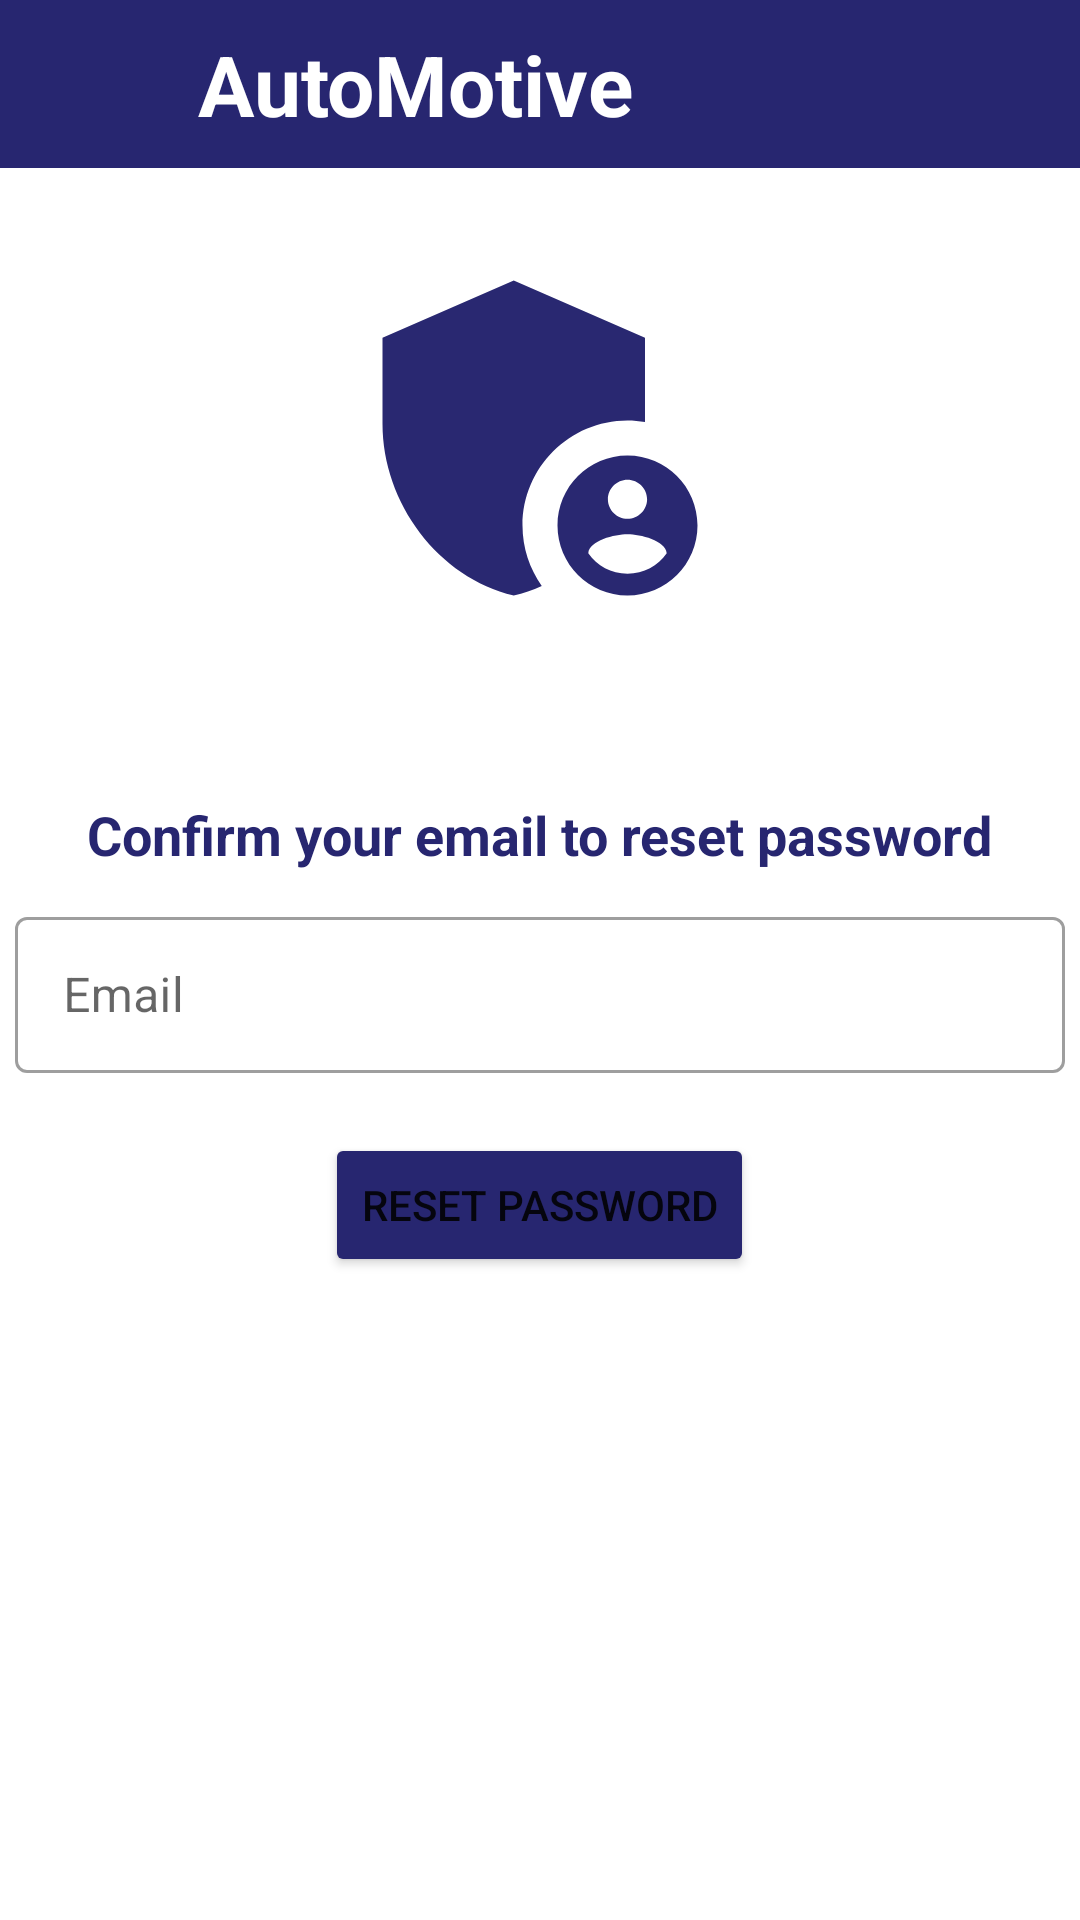

Screen size 1080px×1920px. Icon name, then its box in pixels as (x1, y1, x2, y2):
admin panel settings: (382, 280, 698, 596)
